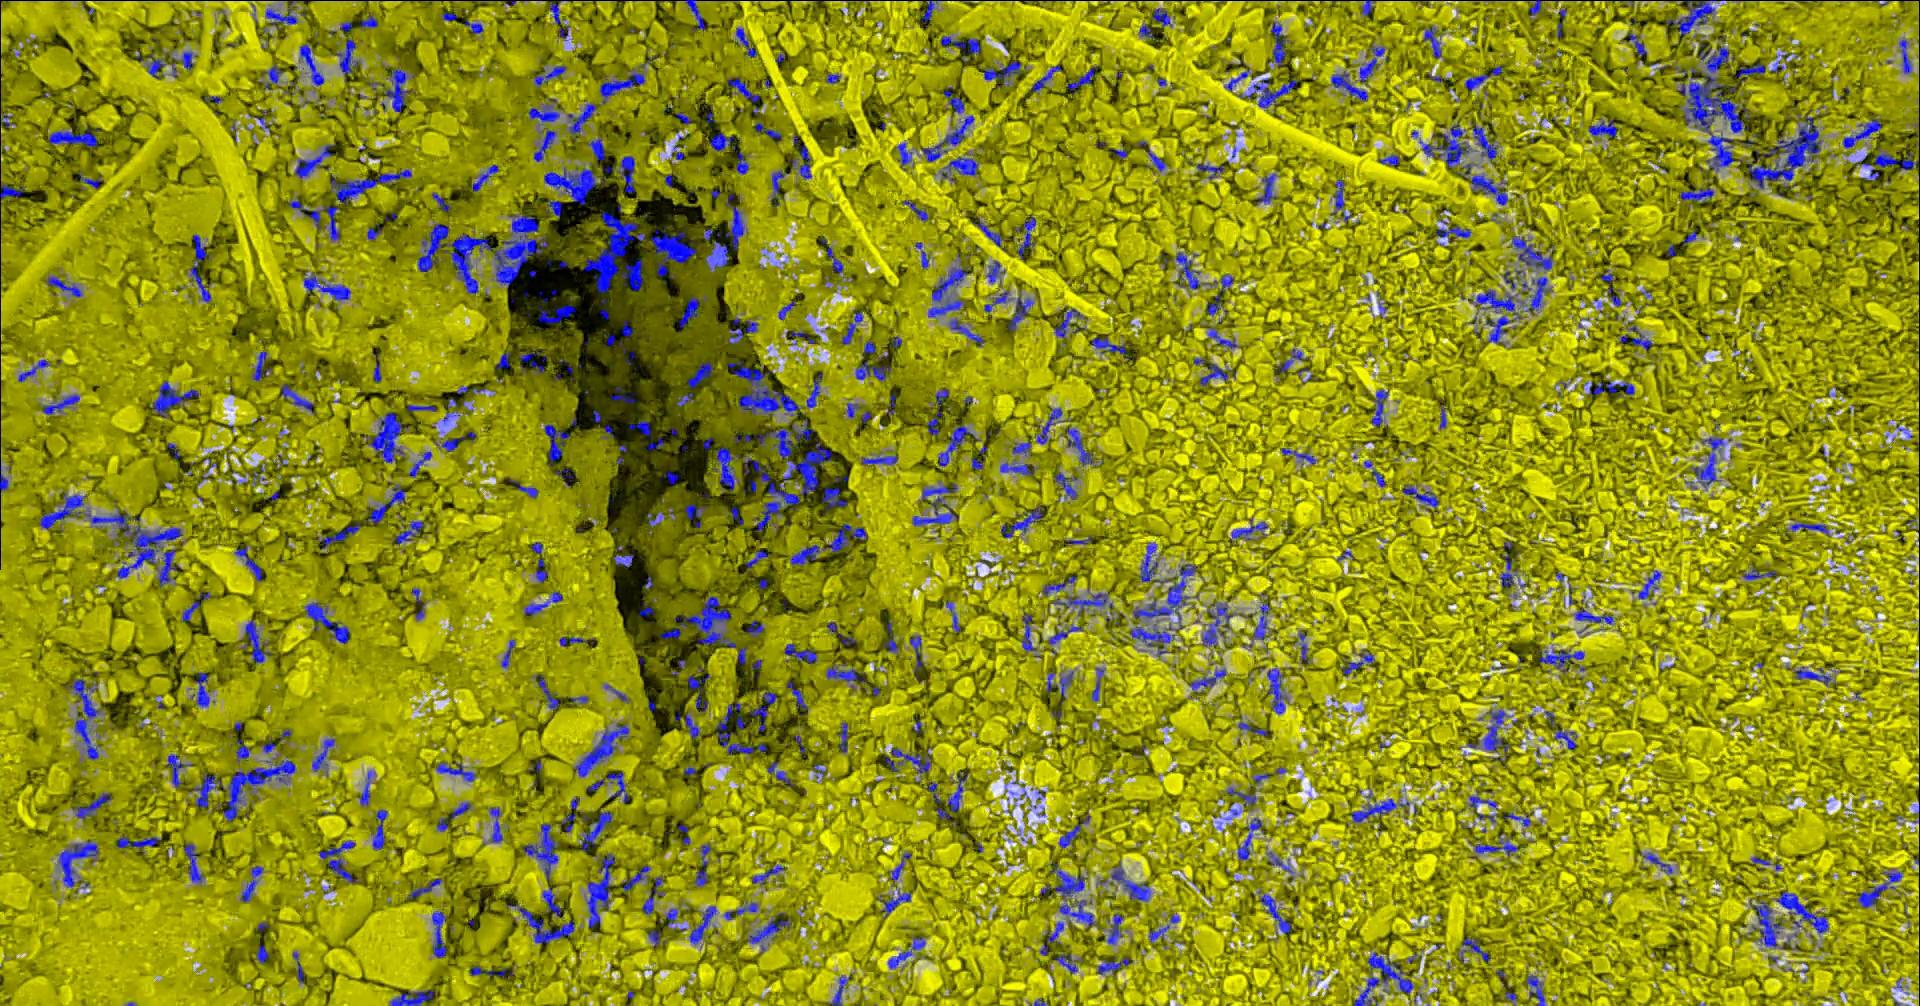ant: (1131, 563, 1196, 627), (743, 457, 799, 531), (1352, 951, 1412, 1005), (573, 723, 629, 776), (63, 678, 99, 760), (1049, 862, 1095, 925), (329, 169, 411, 203), (715, 702, 767, 754), (505, 903, 574, 942), (705, 206, 743, 271), (921, 116, 974, 161), (927, 263, 970, 316), (1775, 890, 1829, 934), (650, 227, 696, 277), (1050, 593, 1124, 624), (1418, 123, 1469, 166), (585, 854, 615, 929), (287, 199, 340, 240), (1457, 163, 1507, 205), (366, 412, 408, 462), (523, 823, 557, 880), (912, 483, 957, 525), (926, 774, 968, 819), (1691, 437, 1730, 486), (303, 602, 349, 643), (1855, 151, 1919, 180), (58, 840, 98, 887), (1665, 0, 1716, 36), (747, 912, 790, 953), (1460, 290, 1520, 319), (317, 840, 358, 882), (1749, 898, 1783, 948), (152, 380, 198, 417), (364, 481, 404, 523), (1129, 622, 1178, 655), (39, 493, 85, 528), (1109, 862, 1150, 901), (1857, 871, 1901, 907), (937, 424, 974, 466), (1510, 235, 1552, 271), (1483, 710, 1510, 766), (1257, 890, 1291, 934), (1350, 798, 1408, 822), (599, 72, 645, 103), (189, 234, 210, 302), (1250, 77, 1297, 107), (303, 271, 350, 300), (1201, 603, 1233, 647), (585, 771, 629, 803), (1175, 251, 1211, 288), (1705, 133, 1741, 170), (1001, 506, 1041, 537), (1034, 406, 1068, 443), (295, 144, 333, 177), (1544, 710, 1576, 749), (582, 810, 612, 851), (331, 39, 361, 81), (1355, 41, 1384, 83), (1330, 70, 1368, 102), (383, 69, 411, 111), (888, 936, 924, 968), (884, 748, 930, 774), (543, 424, 570, 467), (828, 523, 867, 553), (728, 77, 759, 113), (1189, 668, 1225, 699), (1206, 273, 1233, 315), (317, 521, 359, 547), (244, 620, 270, 662), (265, 0, 303, 29), (940, 36, 980, 62), (983, 60, 1020, 89), (926, 387, 949, 434), (1843, 119, 1881, 147), (1524, 277, 1552, 315), (1007, 290, 1032, 332), (1065, 427, 1093, 465), (749, 691, 776, 730), (1538, 649, 1583, 672), (568, 103, 597, 138), (192, 771, 221, 807), (48, 127, 99, 147), (716, 447, 739, 492), (690, 904, 716, 942), (298, 43, 323, 85), (1237, 817, 1261, 859), (436, 801, 470, 831), (546, 0, 571, 39), (71, 793, 110, 818), (789, 135, 811, 178), (1472, 123, 1498, 160), (1464, 65, 1502, 90), (1266, 668, 1288, 713), (234, 546, 262, 580), (156, 549, 182, 586), (1053, 307, 1084, 337), (1029, 64, 1062, 91), (524, 591, 563, 615), (949, 319, 983, 345), (1272, 348, 1307, 375), (535, 674, 561, 709), (1331, 179, 1352, 221), (1473, 837, 1517, 857), (1498, 541, 1517, 588), (941, 156, 978, 180), (1401, 485, 1437, 509), (1065, 65, 1097, 93), (527, 97, 559, 124), (279, 384, 312, 410), (1015, 216, 1035, 259), (1340, 649, 1374, 674), (239, 865, 263, 901), (182, 591, 210, 621), (1223, 58, 1250, 90), (1199, 362, 1236, 385), (686, 674, 709, 711), (1039, 921, 1063, 955), (436, 431, 476, 451), (1229, 520, 1267, 541), (1575, 602, 1613, 624), (971, 218, 1001, 246), (881, 890, 910, 918), (841, 309, 863, 344), (1484, 315, 1511, 345), (728, 318, 758, 344), (1266, 851, 1293, 882), (436, 761, 475, 781), (166, 754, 190, 788), (1599, 269, 1620, 306), (533, 127, 556, 161), (183, 843, 203, 882), (641, 876, 662, 915), (46, 276, 81, 297), (693, 843, 711, 887), (1269, 22, 1285, 67), (311, 738, 334, 771), (825, 663, 865, 682), (42, 394, 79, 414), (1794, 666, 1831, 686), (686, 359, 712, 387), (825, 621, 855, 647), (392, 520, 423, 544), (537, 304, 575, 323), (530, 541, 547, 582), (790, 544, 825, 564), (17, 359, 50, 381), (786, 680, 808, 713), (621, 865, 649, 890), (1053, 471, 1077, 500), (1460, 937, 1490, 962), (855, 361, 891, 380), (1095, 955, 1131, 974), (1252, 600, 1270, 639), (406, 878, 441, 898), (430, 911, 446, 956), (1585, 380, 1634, 394), (533, 65, 565, 86), (1255, 173, 1276, 205), (1237, 714, 1269, 735), (170, 51, 196, 77), (472, 164, 498, 191), (1625, 325, 1652, 351), (1139, 542, 1157, 580), (560, 796, 579, 832), (766, 761, 794, 785), (783, 643, 817, 663), (890, 852, 910, 885), (1637, 570, 1660, 600), (735, 27, 757, 57), (390, 989, 433, 1005), (770, 170, 789, 205), (1048, 624, 1082, 643), (190, 672, 210, 706), (723, 901, 757, 920), (678, 295, 698, 326), (519, 349, 546, 373), (674, 711, 698, 738), (1435, 225, 1470, 243), (1091, 337, 1126, 354), (942, 86, 964, 116), (1208, 326, 1237, 348), (541, 887, 563, 916), (1043, 575, 1076, 594), (750, 865, 783, 884), (684, 0, 705, 30), (1735, 64, 1765, 84), (372, 809, 387, 850), (1642, 852, 1672, 873), (1371, 389, 1388, 426), (1468, 790, 1496, 812), (830, 976, 851, 1005), (1280, 447, 1316, 464), (251, 351, 270, 381), (408, 451, 430, 476), (983, 290, 1010, 311), (709, 130, 737, 150), (1679, 187, 1713, 203), (1021, 614, 1036, 650), (146, 48, 165, 77), (822, 486, 846, 509), (902, 199, 927, 221), (684, 503, 706, 528), (1423, 25, 1440, 58), (806, 371, 822, 406), (1055, 953, 1082, 973), (1526, 974, 1544, 1005), (1589, 118, 1617, 137), (909, 635, 922, 677), (116, 835, 157, 847), (745, 549, 768, 572), (587, 137, 604, 166), (921, 0, 938, 28), (74, 170, 102, 188), (488, 807, 502, 842), (1785, 523, 1829, 535), (1058, 824, 1079, 847), (262, 64, 281, 89), (1225, 788, 1255, 804), (825, 246, 843, 273), (1147, 149, 1167, 171), (945, 601, 960, 631), (1293, 633, 1308, 663), (1196, 163, 1224, 179), (985, 260, 1004, 285), (469, 965, 513, 976), (1107, 913, 1123, 942), (754, 122, 781, 138), (1770, 50, 1789, 72), (999, 462, 1034, 475), (613, 544, 632, 567), (1742, 567, 1777, 579), (359, 771, 372, 805), (604, 683, 629, 701), (884, 621, 898, 652), (1898, 39, 1911, 72), (442, 398, 458, 423), (1091, 667, 1103, 700), (1148, 923, 1170, 942), (1628, 32, 1646, 55), (554, 467, 577, 485), (1059, 671, 1072, 702), (897, 142, 910, 170), (1150, 8, 1171, 27), (0, 183, 25, 198), (610, 386, 635, 401), (971, 443, 987, 469), (411, 588, 424, 619), (629, 420, 651, 437), (1503, 812, 1530, 826), (430, 192, 450, 211), (559, 636, 594, 647), (502, 639, 514, 667), (292, 951, 303, 982), (235, 739, 250, 761), (1377, 152, 1399, 166), (785, 330, 808, 344), (516, 483, 538, 497), (545, 199, 563, 217), (861, 455, 897, 464), (745, 619, 763, 636), (648, 929, 665, 946), (778, 300, 795, 319), (837, 721, 847, 752), (495, 351, 510, 370), (1011, 441, 1031, 455), (676, 823, 690, 843), (1750, 856, 1770, 870), (735, 151, 748, 173), (646, 512, 664, 527), (463, 19, 483, 33), (676, 392, 695, 406), (1557, 8, 1566, 37), (455, 385, 484, 394), (361, 13, 377, 28), (1138, 23, 1154, 38), (366, 224, 381, 240), (662, 470, 679, 484), (1371, 469, 1385, 486), (730, 506, 743, 525), (1064, 535, 1091, 544), (637, 601, 653, 616), (406, 404, 436, 412), (257, 944, 268, 963), (1528, 0, 1542, 15), (676, 111, 691, 124), (670, 144, 684, 159), (1439, 400, 1446, 428), (843, 403, 858, 417), (0, 464, 8, 492), (646, 437, 663, 450), (0, 109, 11, 127), (621, 319, 632, 337), (886, 392, 895, 415), (665, 908, 677, 926), (1683, 230, 1697, 244), (1360, 0, 1373, 15), (372, 361, 381, 382), (606, 334, 622, 345), (623, 347, 634, 365), (733, 433, 750, 442), (825, 72, 841, 83), (737, 647, 745, 663), (863, 340, 875, 353), (441, 11, 456, 20)
